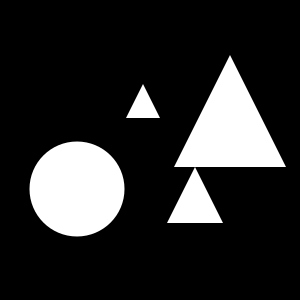rectangle: (30, 142, 124, 236)
triangle: (174, 55, 286, 167), (167, 167, 223, 223), (126, 84, 160, 118)
